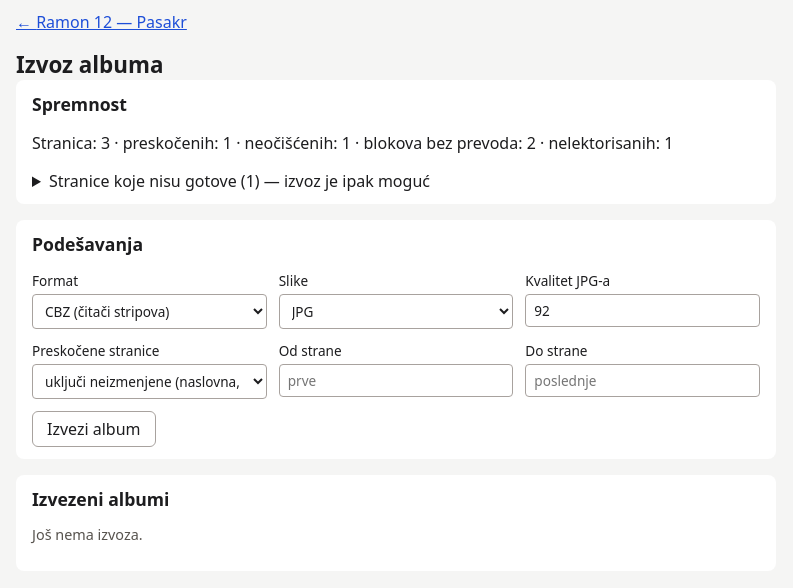
Scenario: ExportPage › izvoz koji pukne pri crtanju se briše, a greška se prikazuje
Click the button "Izvezi album" at (94, 429), box [32,411,156,447]
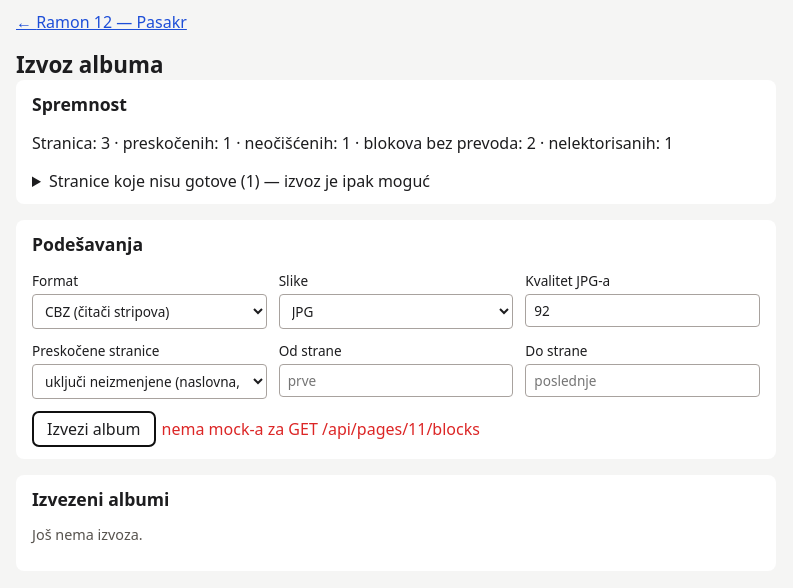
Result: the text "nema mock-a za GET /api/pages/11/blocks" is shown at [162,418,480,440]
